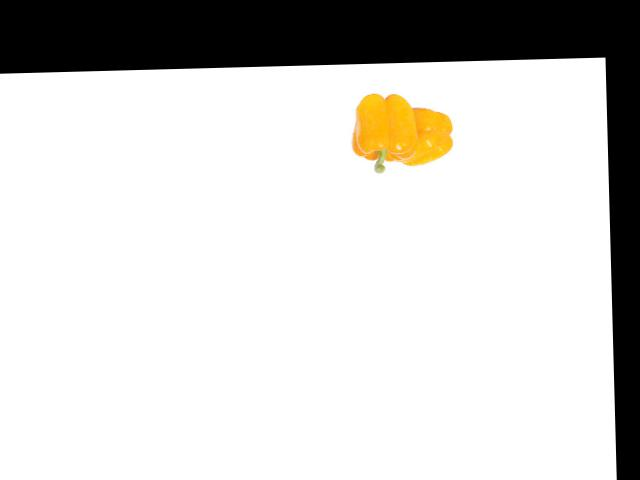bell_pepper: (393, 98, 458, 168)
